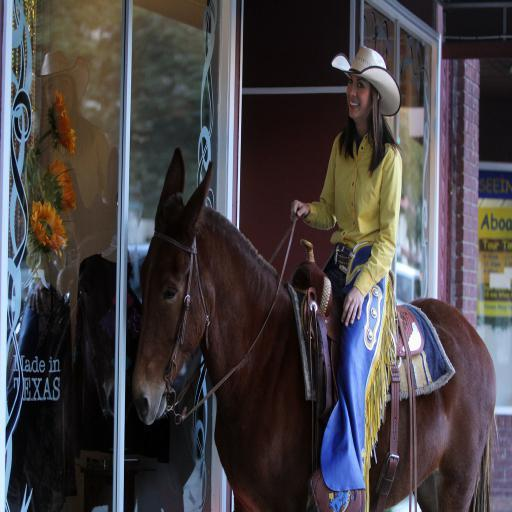horse: (133, 150, 495, 512)
